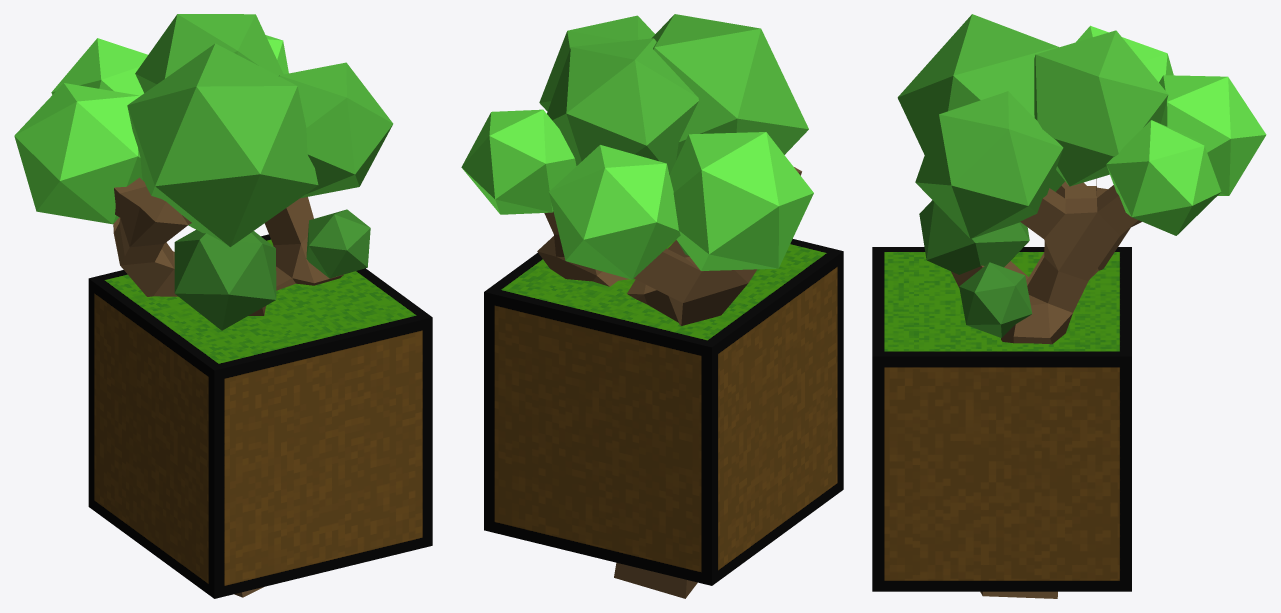
Rendered from BushBig3.glb.
The picture shows the model from 3 angles, left to right: view 1: azimuth 30°, elevation 25°; view 2: azimuth 150°, elevation 25°; view 3: azimuth 270°, elevation 25°; orthographic projection. The views are drawn at different scales.
Visible parts, largest first — view 1: Grass_v2Baked, Icosphere.029, Icosphere.025, Tree medium, Icosphere.026, Icosphere.002, Icosphere.023, Icosphere.001, Icosphere.024; view 2: Grass_v2Baked, Icosphere.025, Icosphere.023, Icosphere.029, Icosphere.024, Tree medium, Icosphere.021, Icosphere.026; view 3: Grass_v2Baked, Icosphere.026, Icosphere.023, Tree medium, Icosphere.029, Icosphere.021, Icosphere.024, Icosphere.002, Icosphere.001, Icosphere.025.
Boxes of the visible parts, x1,y1,x2,y2 form: Grass_v2Baked: [88, 234, 432, 598]; Icosphere.029: [127, 43, 318, 247]; Icosphere.025: [14, 83, 142, 224]; Tree medium: [113, 177, 343, 597]; Icosphere.026: [279, 62, 393, 198]; Icosphere.002: [174, 229, 276, 330]; Icosphere.023: [135, 14, 283, 92]; Icosphere.001: [306, 209, 370, 278]; Icosphere.024: [51, 38, 147, 95]; Grass_v2Baked: [484, 239, 843, 585]; Icosphere.025: [669, 132, 813, 270]; Icosphere.023: [547, 38, 698, 174]; Icosphere.029: [651, 14, 808, 159]; Icosphere.024: [549, 145, 680, 279]; Tree medium: [537, 167, 801, 598]; Icosphere.021: [461, 109, 576, 214]; Icosphere.026: [539, 15, 655, 111]; Grass_v2Baked: [872, 247, 1131, 591]; Icosphere.026: [915, 91, 1063, 238]; Icosphere.023: [1034, 30, 1168, 186]; Tree medium: [951, 178, 1141, 598]; Icosphere.029: [897, 14, 1064, 191]; Icosphere.021: [1106, 120, 1221, 235]; Icosphere.024: [1159, 75, 1266, 195]; Icosphere.002: [919, 200, 1029, 274]; Icosphere.001: [959, 262, 1032, 337]; Icosphere.025: [1076, 25, 1173, 82].
Bounding box in the file's own units: 1.29 × 2.31 × 1.49.
6 materials, 1 textured.
